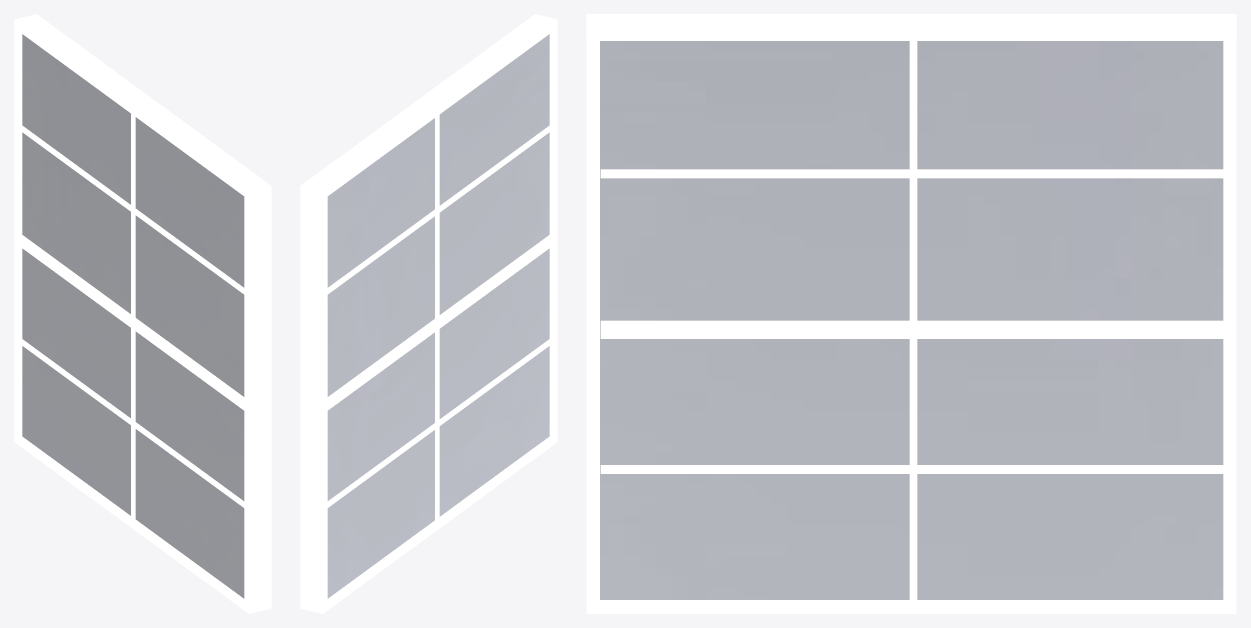
File: window_8_grid_window.e29e8ea8.gltf
The picture shows the model from 3 angles, left to right: view 1: azimuth 30°, elevation 25°; view 2: azimuth 150°, elevation 25°; view 3: azimuth 270°, elevation 25°; orthographic projection. The views are drawn at different scales.
Parts seen in each view (by area): view 1: window, trims, inside_trims; view 2: window, trims, inside_trims; view 3: window, trims, inside_trims.
Boxes of the visible parts, x1,y1,x2,y2 form: window: [22, 34, 244, 598]; trims: [14, 14, 271, 613]; inside_trims: [20, 114, 244, 519]; window: [327, 34, 549, 598]; trims: [300, 14, 557, 613]; inside_trims: [327, 115, 551, 520]; window: [600, 41, 1223, 599]; trims: [586, 14, 1236, 613]; inside_trims: [600, 41, 1223, 601].
Size of the model in its own units: 0.28 by 5.03 by 5.07.
Materials: 3 (1 with a texture image).
